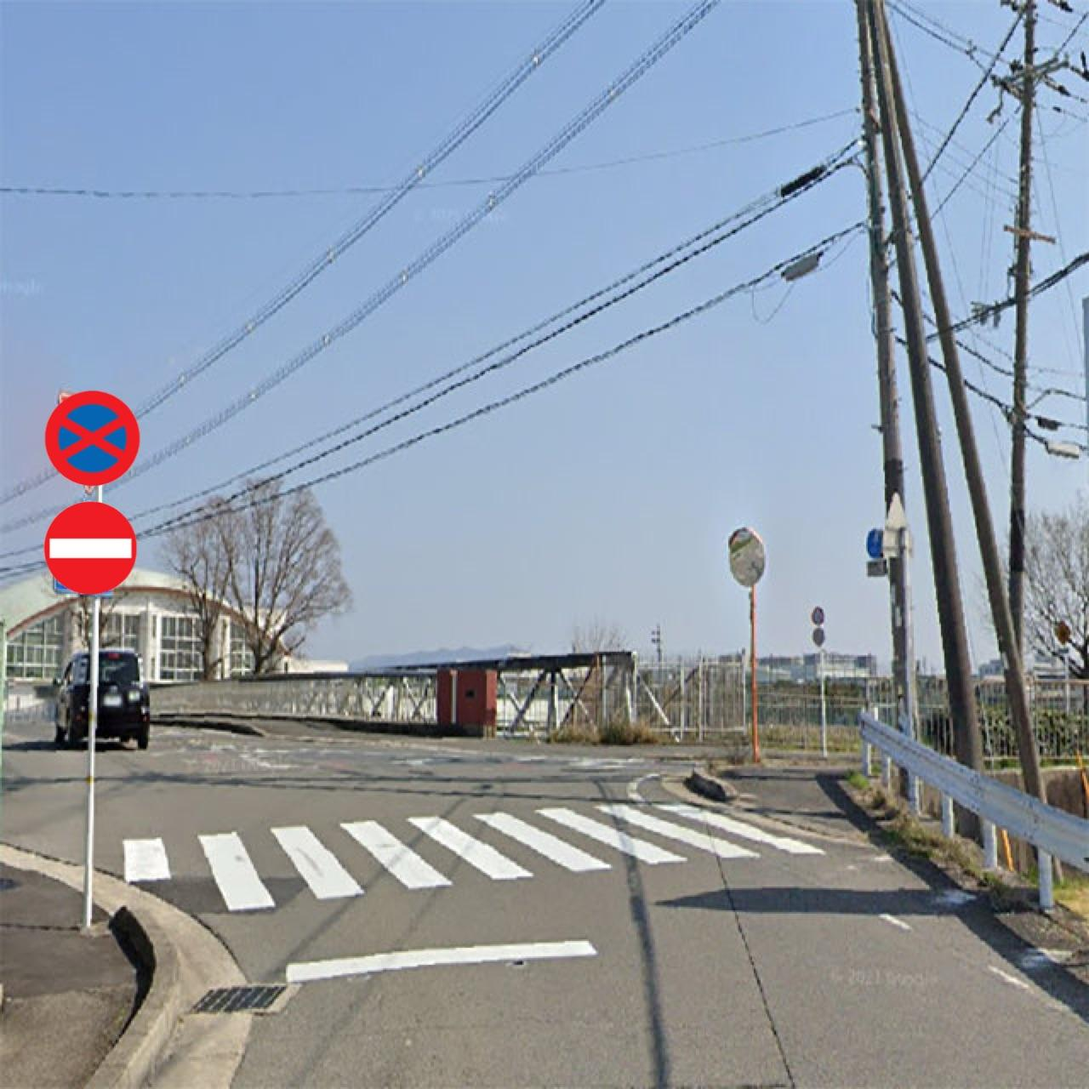barrier: (45, 500, 141, 592)
stop_sign: (47, 388, 138, 482)
